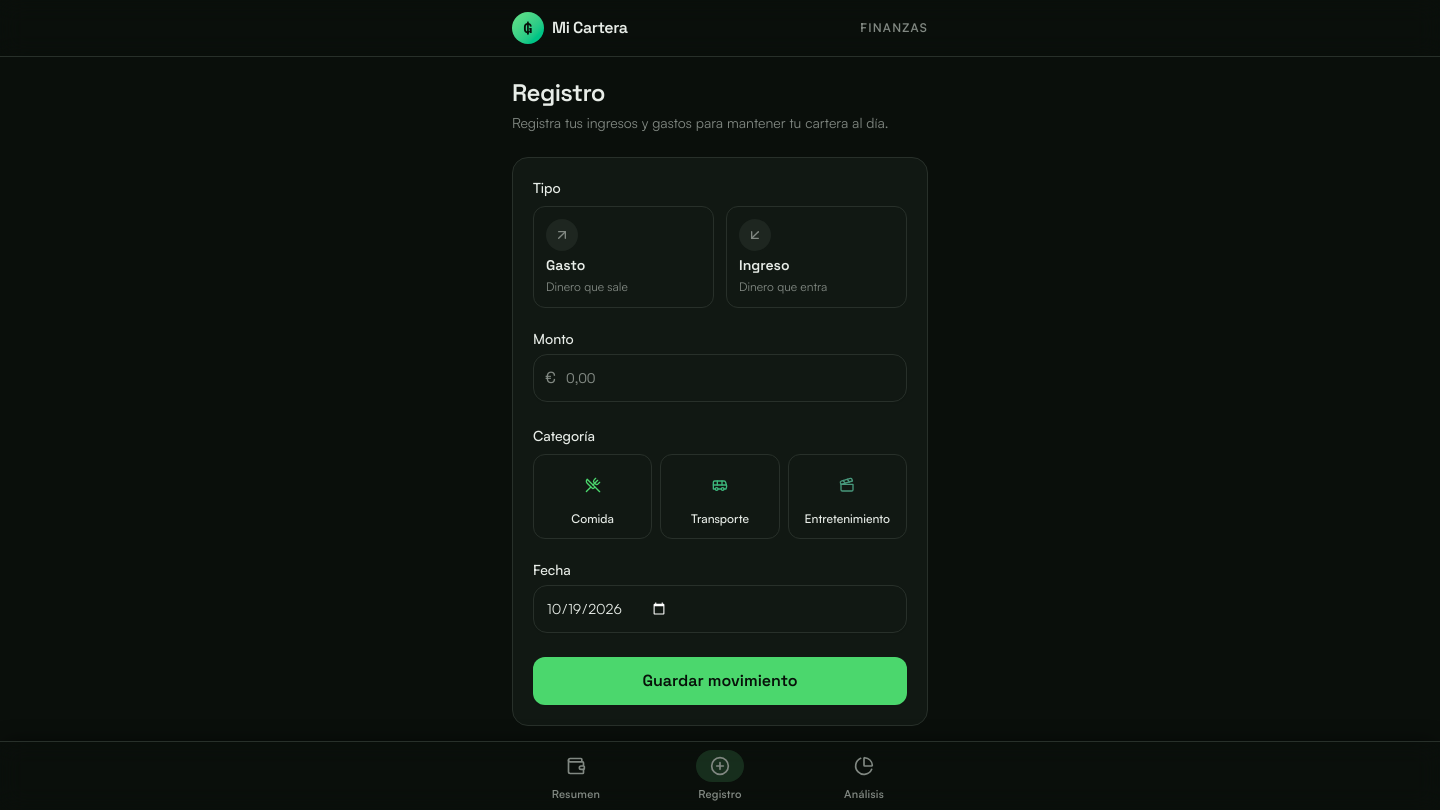
Test: Analisis › shows a clear empty state when there are no expenses
Step 1. Click the link with test id "nav.analisis" → (864, 778), box x1=844 y1=756 x2=884 y2=800
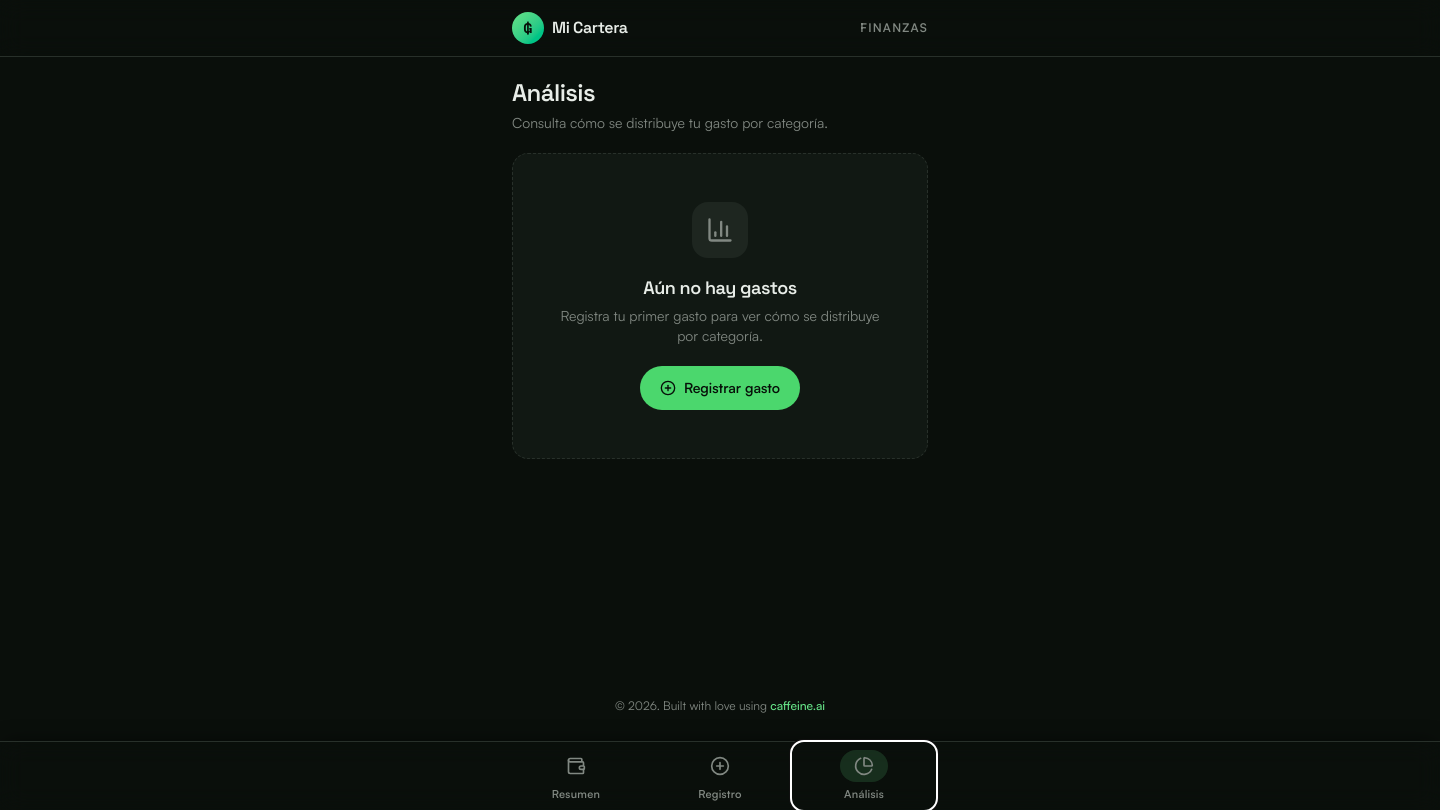
Now the element with test id "analisis.empty_state" is shown, box x1=512 y1=153 x2=928 y2=459
